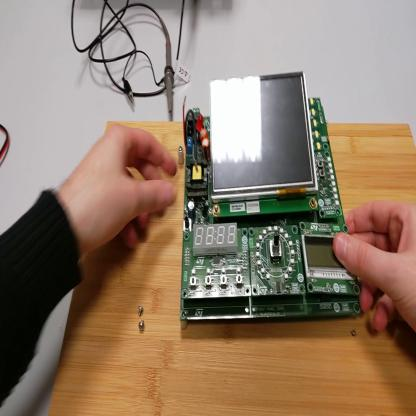hand: (54, 125, 178, 261), (336, 199, 416, 337)
low voltage board: (179, 70, 360, 323)
oscilloscope probe tip: (162, 19, 175, 123)
working area: (48, 122, 416, 415)
